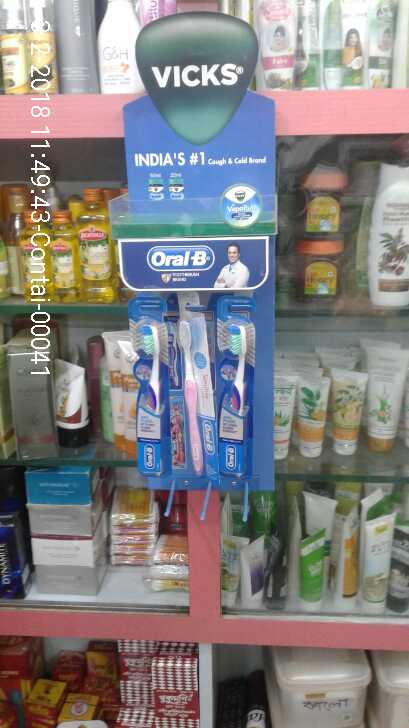oralb: (177, 322, 214, 479), (133, 322, 166, 483), (220, 319, 249, 477)
